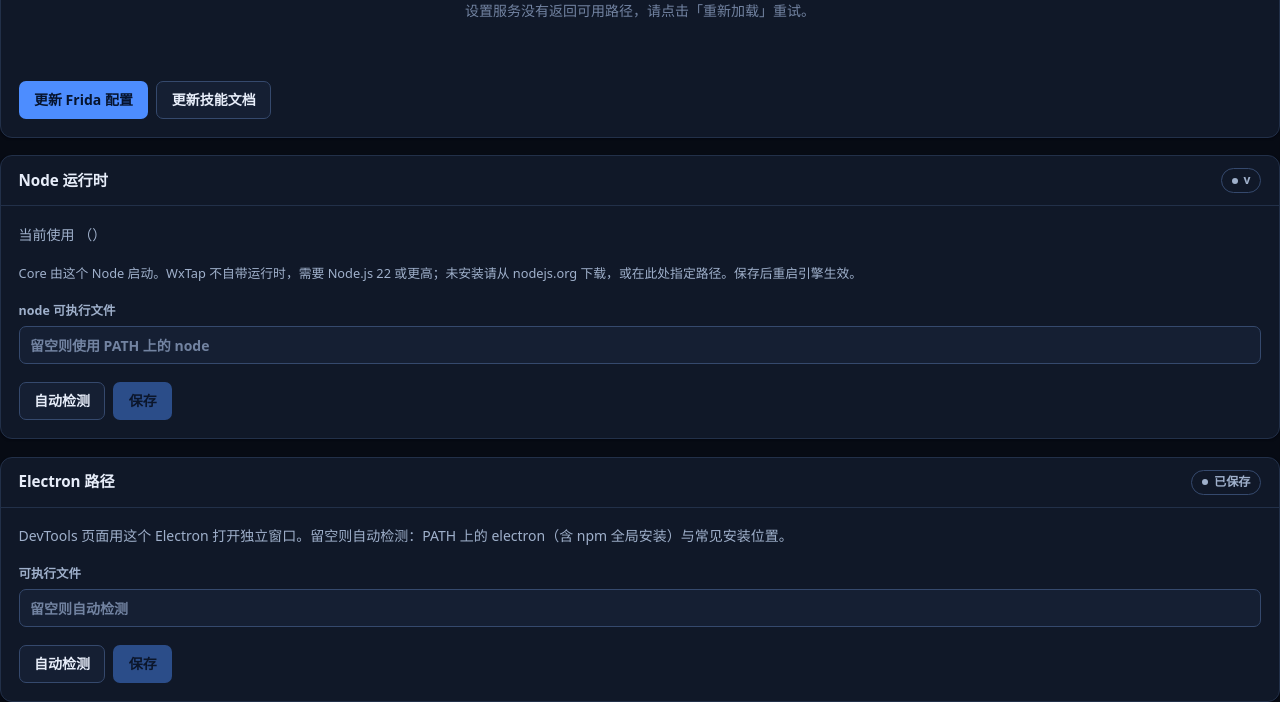
it: SettingsView › auto-detects an Electron and fills the field with it
(page scrolled)
What coordinates should you click on to do the following:
click the button with test id "detect-electron"
I would click on:
 (62, 664)
Its box is top-left (19, 645), bottom-right (105, 683).
(page scrolled)
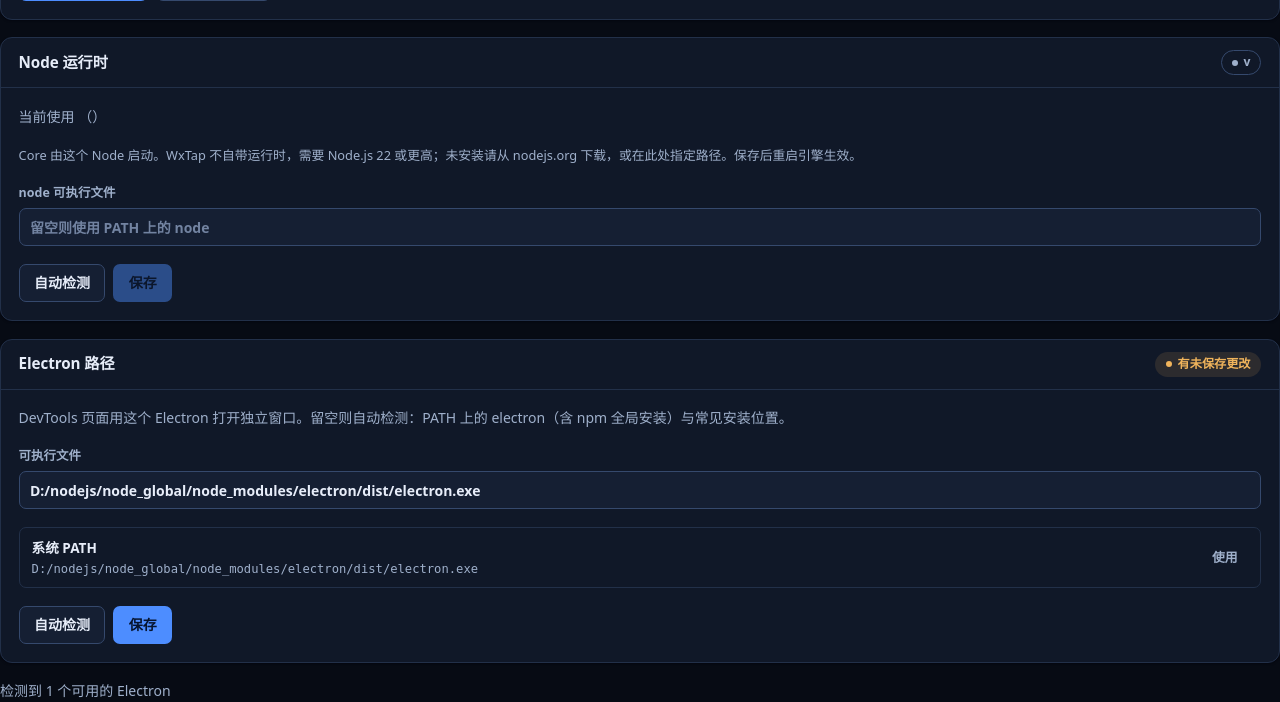
Now the field with test id "electron-path" holds "D:/nodejs/node_global/node_modules/electron/dist/electron.exe", box top-left (19, 471), bottom-right (1261, 510)
Now the list shows "系统 PATH", box top-left (32, 538), bottom-right (97, 557)
